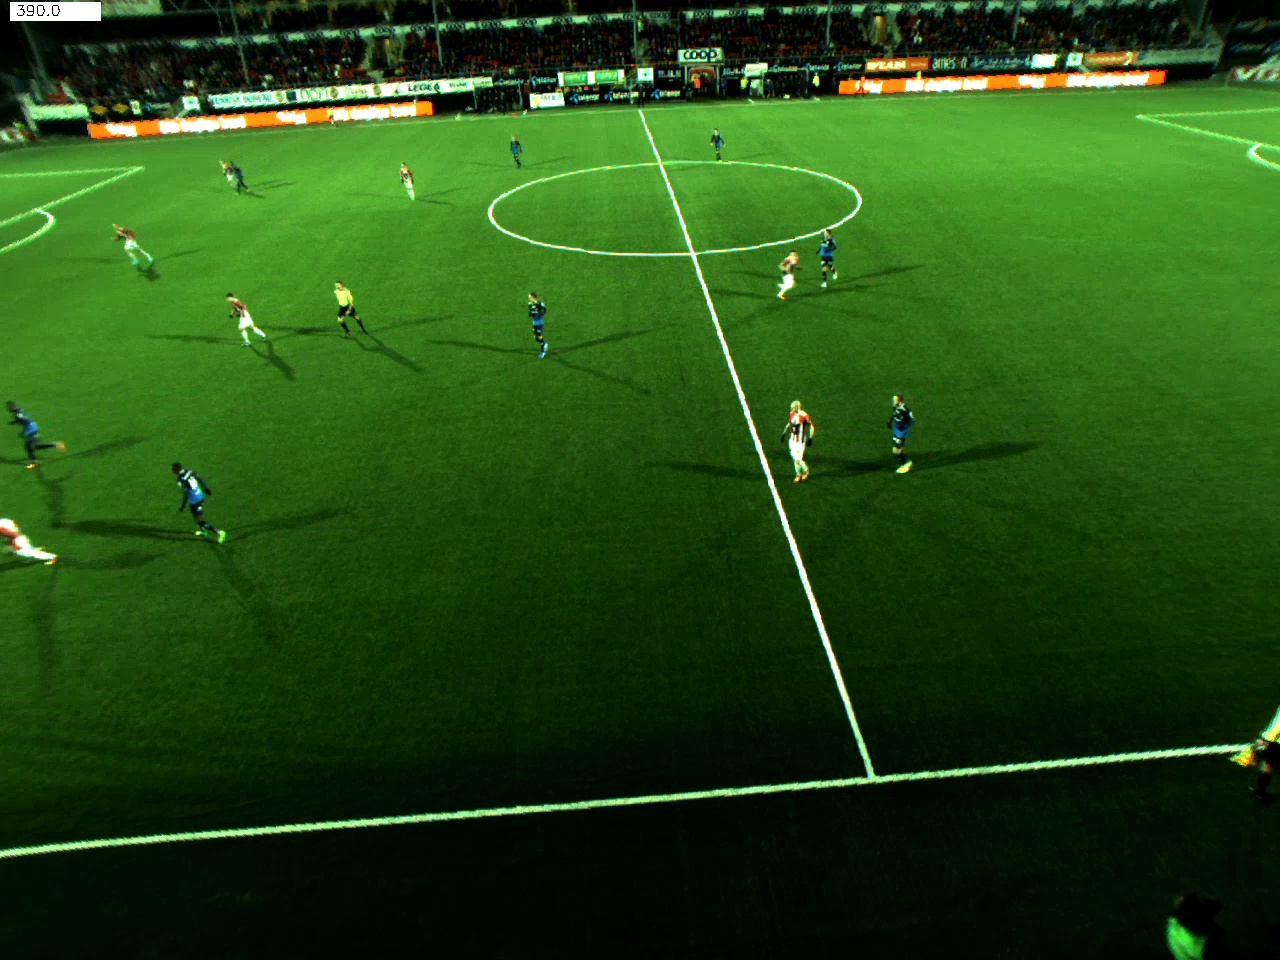blue: (169, 457, 233, 591), (874, 389, 919, 487), (8, 400, 71, 460), (816, 227, 853, 306), (520, 292, 559, 359), (499, 131, 539, 171), (698, 119, 730, 163), (231, 160, 256, 196)
red: (1, 514, 83, 585), (780, 395, 824, 494), (224, 291, 280, 359), (106, 223, 159, 278), (781, 238, 806, 310), (395, 160, 423, 200), (212, 153, 235, 200)
yellow: (323, 271, 376, 339)
